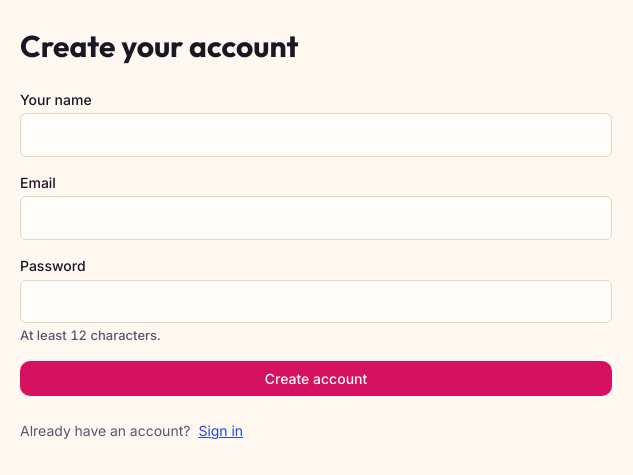
Scenario: credential form › names the one sign up failure the person can act on
Type "Nia" into the field labelled "Your name" at {"x": 316, "y": 135}, box [20, 113, 612, 157]
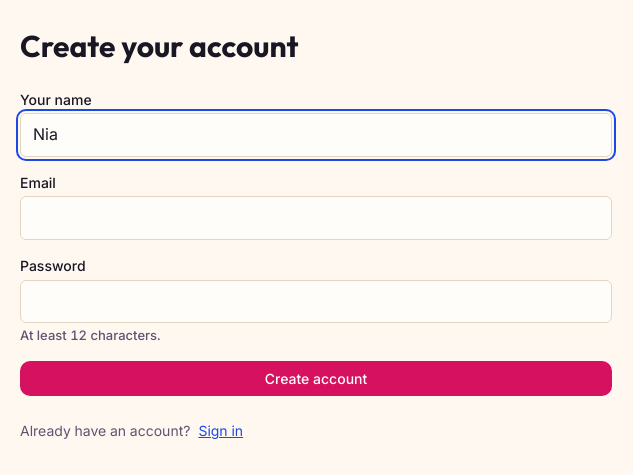
Type "nia@plotpop.test" into the field labelled "Email" at {"x": 316, "y": 218}, box [20, 196, 612, 240]
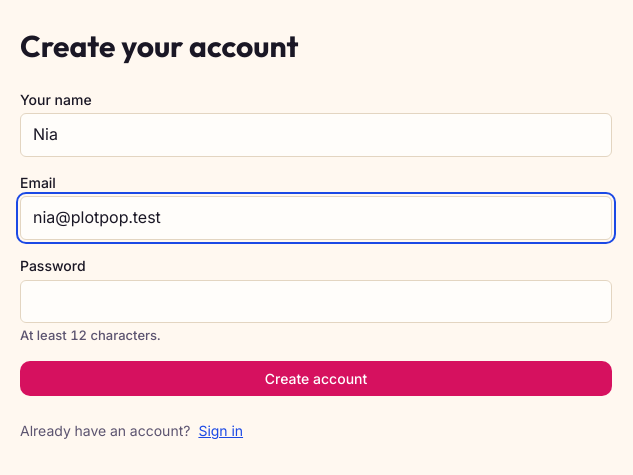
Type "a-long-password" into the password field labelled "Password" at {"x": 316, "y": 301}, box [20, 280, 612, 323]
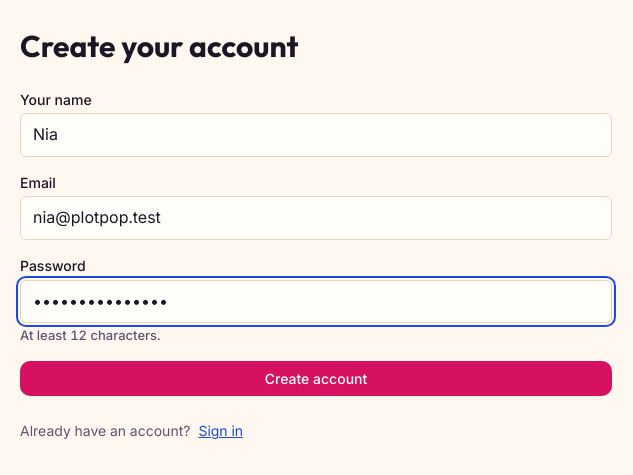
Click the button "Create account" at {"x": 316, "y": 378}, box [20, 361, 612, 396]
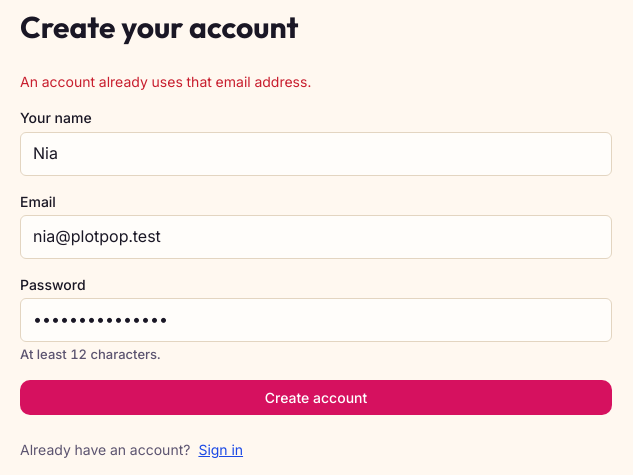
Expected: the message reads "An account already uses that email address.", [20, 73, 311, 90]
